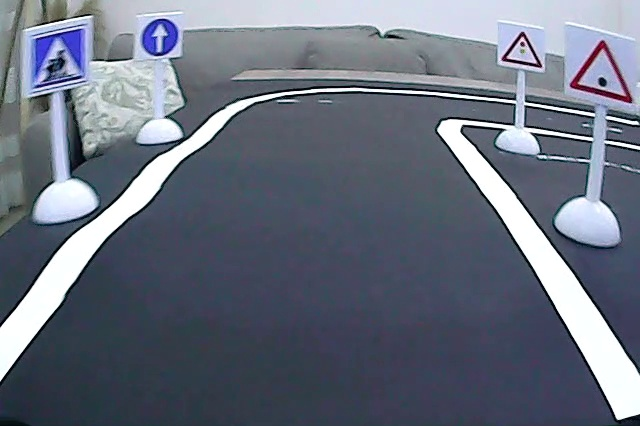green light: (567, 33, 636, 107)
red light: (497, 26, 545, 71)
school crossing: (24, 24, 90, 93)
